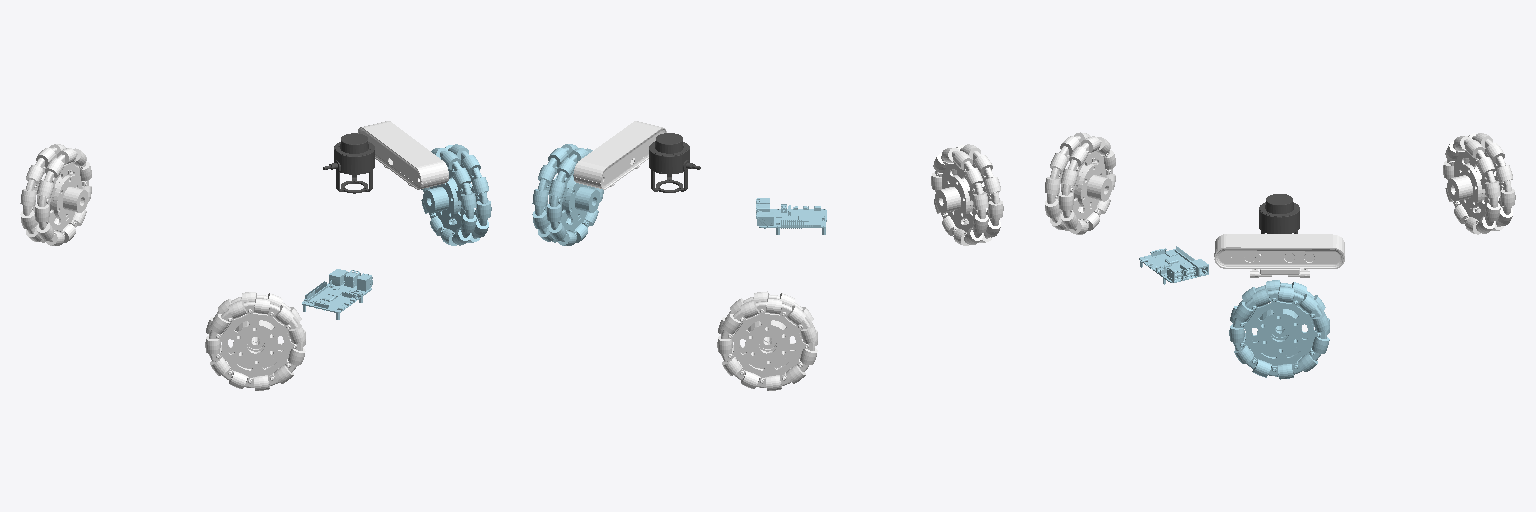
robot.urdf — top_omni_robot:
<?xml version="1.0" encoding="utf-8"?>
<!-- This URDF was automatically created by SolidWorks to URDF Exporter! Originally created by [author] ([email redacted]) 
     Commit Version: 1.6.0-4-g7f85cfe  Build Version: 1.6.7995.38578
     For more information, please see http://wiki.ros.org/sw_urdf_exporter -->
<robot
  name="top_omni_robot">
  <link
    name="base_link">
    <inertial>
      <origin
        xyz="0.000162349725411019 0.00190797321626078 0.0407914838285059"
        rpy="0 0 0" />
      <mass
        value="3.39737926123101" />
      <inertia
        ixx="0.0211328571278065"
        ixy="4.38676762315427E-06"
        ixz="2.3044824076869E-07"
        iyy="0.0209049304668755"
        iyz="-4.32498944421786E-07"
        izz="0.0408049369808656" />
    </inertial>
    <visual>
      <origin
        xyz="0 0 0"
        rpy="0 0 0" />
      <geometry>
        <mesh
          filename="package://wheeltec_robot_urdf/meshes/top_omni_robot_meshes/base_link.STL" />
      </geometry>
      <material
        name="">
        <color
          rgba="0.741176470588235 0.901960784313726 0.956862745098039 1" />
      </material>
    </visual>
    <collision>
      <origin
        xyz="0 0 0"
        rpy="0 0 0" />
      <geometry>
        <mesh
          filename="package://wheeltec_robot_urdf/meshes/top_omni_robot_meshes/base_link.STL" />
      </geometry>
    </collision>
  </link>
  <link
    name="quanxiang_wheel1_link">
    <inertial>
      <origin
        xyz="1.28702213713614E-07 0.00240831193269025 3.00934248353979E-09"
        rpy="0 0 0" />
      <mass
        value="0.225139706737604" />
      <inertia
        ixx="0.000250170315003475"
        ixy="-1.28118563293493E-09"
        ixz="1.22992081634769E-11"
        iyy="0.00045368203804365"
        iyz="-9.57253055145053E-11"
        izz="0.000250170177147773" />
    </inertial>
    <visual>
      <origin
        xyz="0 0 0"
        rpy="0 0 0" />
      <geometry>
        <mesh
          filename="package://wheeltec_robot_urdf/meshes/top_omni_robot_meshes/quanxiang_wheel1_link.STL" />
      </geometry>
      <material
        name="">
        <color
          rgba="0.741176470588235 0.901960784313726 0.956862745098039 1" />
      </material>
    </visual>
    <collision>
      <origin
        xyz="0 0 0"
        rpy="0 0 0" />
      <geometry>
        <mesh
          filename="package://wheeltec_robot_urdf/meshes/top_omni_robot_meshes/quanxiang_wheel1_link.STL" />
      </geometry>
    </collision>
  </link>
  <joint
    name="quanxiang_wheel1_joint"
    type="continuous">
    <origin
      xyz="0.291186652658148 0.000149252540249246 0.043000000000001"
      rpy="0 0 1.5707963267949" />
    <parent
      link="base_link" />
    <child
      link="quanxiang_wheel1_link" />
    <axis
      xyz="0 0.999999999972373 0" />
  </joint>
  <link
    name="quanxiang_wheel2_link">
    <inertial>
      <origin
        xyz="-2.82360883036015E-07 0.00240909429058983 3.30892666045024E-09"
        rpy="0 0 0" />
      <mass
        value="0.225140228575666" />
      <inertia
        ixx="0.000250170368181162"
        ixy="-1.27739673890247E-09"
        ixz="-6.51814989951876E-12"
        iyy="0.000453682328977403"
        iyz="-9.40329945439142E-11"
        izz="0.000250170247771797" />
    </inertial>
    <visual>
      <origin
        xyz="0 0 0"
        rpy="0 0 0" />
      <geometry>
        <mesh
          filename="package://wheeltec_robot_urdf/meshes/top_omni_robot_meshes/quanxiang_wheel2_link.STL" />
      </geometry>
      <material
        name="">
        <color
          rgba="1 1 1 1" />
      </material>
    </visual>
    <collision>
      <origin
        xyz="0 0 0"
        rpy="0 0 0" />
      <geometry>
        <mesh
          filename="package://wheeltec_robot_urdf/meshes/top_omni_robot_meshes/quanxiang_wheel2_link.STL" />
      </geometry>
    </collision>
  </link>
  <joint
    name="quanxiang_wheel2_joint"
    type="continuous">
    <origin
      xyz="-0.145075347341852 0.252029252540249 0.0429999999999992"
      rpy="0 0 -2.61799387799149" />
    <parent
      link="base_link" />
    <child
      link="quanxiang_wheel2_link" />
    <axis
      xyz="0 0.999999999972373 0" />
  </joint>
  <link
    name="quanxiang_wheel3_link">
    <inertial>
      <origin
        xyz="1.43370406768817E-07 0.00240917198295848 2.5350976942673E-09"
        rpy="0 0 0" />
      <mass
        value="0.225140217305556" />
      <inertia
        ixx="0.000250170356887716"
        ixy="-1.3502455844768E-09"
        ixz="1.9142513283927E-11"
        iyy="0.000453682330899294"
        iyz="-9.26834316659075E-11"
        izz="0.000250170254974086" />
    </inertial>
    <visual>
      <origin
        xyz="0 0 0"
        rpy="0 0 0" />
      <geometry>
        <mesh
          filename="package://wheeltec_robot_urdf/meshes/top_omni_robot_meshes/quanxiang_wheel3_link.STL" />
      </geometry>
      <material
        name="">
        <color
          rgba="1 1 1 1" />
      </material>
    </visual>
    <collision>
      <origin
        xyz="0 0 0"
        rpy="0 0 0" />
      <geometry>
        <mesh
          filename="package://wheeltec_robot_urdf/meshes/top_omni_robot_meshes/quanxiang_wheel3_link.STL" />
      </geometry>
    </collision>
  </link>
  <joint
    name="quanxiang_wheel3_joint"
    type="continuous">
    <origin
      xyz="-0.145078347341852 -0.251724747459751 0.0430000000000027"
      rpy="0 0 -0.5235987755983" />
    <parent
      link="base_link" />
    <child
      link="quanxiang_wheel3_link" />
    <axis
      xyz="0 0.999999999972372 0" />
  </joint>
  <link
    name="controller_link">
    <inertial>
      <origin
        xyz="-0.0186693330360403 -0.0297305955474186 0.00755226601975803"
        rpy="0 0 0" />
      <mass
        value="0.000688936355708765" />
      <inertia
        ixx="7.1682630367809E-09"
        ixy="7.19688198444219E-24"
        ixz="1.69595035315484E-25"
        iyy="7.16826303678089E-09"
        iyz="-3.51032211388333E-23"
        izz="2.14393937026335E-09" />
    </inertial>
    <visual>
      <origin
        xyz="0 0 0"
        rpy="0 0 0" />
      <geometry>
        <mesh
          filename="package://wheeltec_robot_urdf/meshes/top_omni_robot_meshes/controller_link.STL" />
      </geometry>
      <material
        name="">
        <color
          rgba="0.741176470588235 0.901960784313726 0.956862745098039 1" />
      </material>
    </visual>
    <collision>
      <origin
        xyz="0 0 0"
        rpy="0 0 0" />
      <geometry>
        <mesh
          filename="package://wheeltec_robot_urdf/meshes/top_omni_robot_meshes/controller_link.STL" />
      </geometry>
    </collision>
  </link>
  <joint
    name="controller_joint"
    type="fixed">
    <origin
      xyz="0.0481270870349519 -0.102981937037452 0.00400000000000172"
      rpy="0 0 0" />
    <parent
      link="base_link" />
    <child
      link="controller_link" />
    <axis
      xyz="0 0 0" />
  </joint>
  <link
    name="camera_link">
    <inertial>
      <origin
        xyz="-4.04586736502122E-07 3.20891111157937E-07 1.0752468700137E-07"
        rpy="0 0 0" />
      <mass
        value="0.0559842529551971" />
      <inertia
        ixx="0.000130802189180016"
        ixy="-9.97283694320926E-07"
        ixz="1.6229931784721E-06"
        iyy="1.9123638192004E-05"
        iyz="-4.42430122013258E-08"
        izz="0.000131387473788046" />
    </inertial>
    <visual>
      <origin
        xyz="0 0 0"
        rpy="0 0 0" />
      <geometry>
        <mesh
          filename="package://wheeltec_robot_urdf/meshes/top_omni_robot_meshes/camera_link.STL" />
      </geometry>
      <material
        name="">
        <color
          rgba="1 1 1 1" />
      </material>
    </visual>
    <collision>
      <origin
        xyz="0 0 0"
        rpy="0 0 0" />
      <geometry>
        <mesh
          filename="package://wheeltec_robot_urdf/meshes/top_omni_robot_meshes/camera_link.STL" />
      </geometry>
    </collision>
  </link>
  <joint
    name="camera_joint"
    type="fixed">
    <origin
      xyz="0.217331652658148 0.000264252540249734 0.112704000000001"
      rpy="0 0 0" />
    <parent
      link="base_link" />
    <child
      link="camera_link" />
    <axis
      xyz="0 0 0" />
  </joint>
  <link
    name="laser_link">
    <inertial>
      <origin
        xyz="3.40775287738238E-07 -1.24508052568918E-06 -0.0286630730699483"
        rpy="0 0 0" />
      <mass
        value="0.00487350279505623" />
      <inertia
        ixx="1.86258757615298E-06"
        ixy="-2.58793766067608E-09"
        ixz="-2.38955290015385E-14"
        iyy="1.86258749560106E-06"
        iyz="-2.28903487763288E-15"
        izz="2.11422294867293E-06" />
    </inertial>
    <visual>
      <origin
        xyz="0 0 0"
        rpy="0 0 0" />
      <geometry>
        <mesh
          filename="package://wheeltec_robot_urdf/meshes/top_omni_robot_meshes/laser.STL" />
      </geometry>
      <material
        name="">
        <color
          rgba="0.376470588235294 0.376470588235294 0.376470588235294 1" />
      </material>
    </visual>
    <collision>
      <origin
        xyz="0 0 0"
        rpy="0 0 0" />
      <geometry>
        <mesh
          filename="package://wheeltec_robot_urdf/meshes/top_omni_robot_meshes/laser.STL" />
      </geometry>
    </collision>
  </link>
  <joint
    name="laser_joint"
    type="fixed">
    <origin
      xyz="0.143995652658148 -0.000177747459750089 0.138056000000001"
      rpy="0 0 -3.14159265358979" />
    <parent
      link="base_link" />
    <child
      link="laser_link" />
    <axis
      xyz="0 0 0" />
  </joint>
</robot>

--- Render facts (derived) ---
The picture shows the robot from 3 angles, left to right: view 1: azimuth 30°, elevation 25°; view 2: azimuth 150°, elevation 25°; view 3: azimuth 270°, elevation 25°; orthographic projection.
Model top_omni_robot with 7 links and 6 joints (3 continuous, 3 fixed), rooted at base_link, posed every joint at zero.
Links seen in each view (by area): view 1: quanxiang_wheel3_link, quanxiang_wheel2_link, quanxiang_wheel1_link, camera_link, controller_link, laser_link; view 2: quanxiang_wheel2_link, quanxiang_wheel3_link, quanxiang_wheel1_link, camera_link, laser_link, controller_link; view 3: quanxiang_wheel1_link, quanxiang_wheel2_link, quanxiang_wheel3_link, camera_link, controller_link, laser_link.
Link boxes in pixels (x1,y1,x2,y2): quanxiang_wheel3_link: (205, 292, 305, 390); quanxiang_wheel2_link: (20, 144, 91, 245); quanxiang_wheel1_link: (421, 144, 491, 245); camera_link: (358, 121, 448, 189); controller_link: (302, 269, 372, 319); laser_link: (323, 133, 374, 193); quanxiang_wheel2_link: (717, 291, 817, 390); quanxiang_wheel3_link: (931, 144, 1003, 245); quanxiang_wheel1_link: (532, 144, 603, 245); camera_link: (573, 121, 666, 189); laser_link: (649, 133, 700, 192); controller_link: (756, 198, 826, 234); quanxiang_wheel1_link: (1229, 280, 1329, 379); quanxiang_wheel2_link: (1443, 133, 1515, 234); quanxiang_wheel3_link: (1045, 132, 1115, 234); camera_link: (1214, 234, 1344, 277); controller_link: (1139, 246, 1208, 284); laser_link: (1259, 194, 1299, 233).
Size in the robot's own frame: 0.5179 by 0.5946 by 0.1766 metres.
Meshes: 7 distinct files referenced, 6 mesh visuals loaded (6 binary STL); not drawn: 1 (reference not matched to a file when rendering).